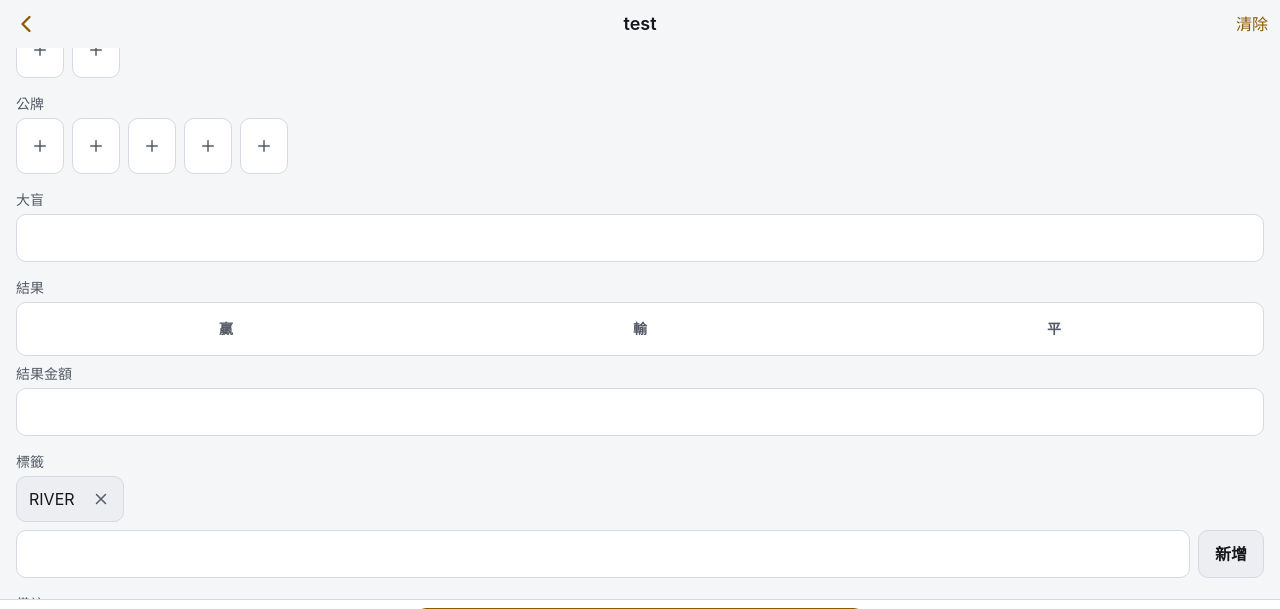
Test: 5.6 標籤建議 › 聚焦時列出所有手牌的標籤（依最近使用、去重不分大小寫、排除本手已加），點選加入
(page scrolled)
Click the field named "新增標籤" at (603, 554), box [16,530,1190,578]
(page scrolled)
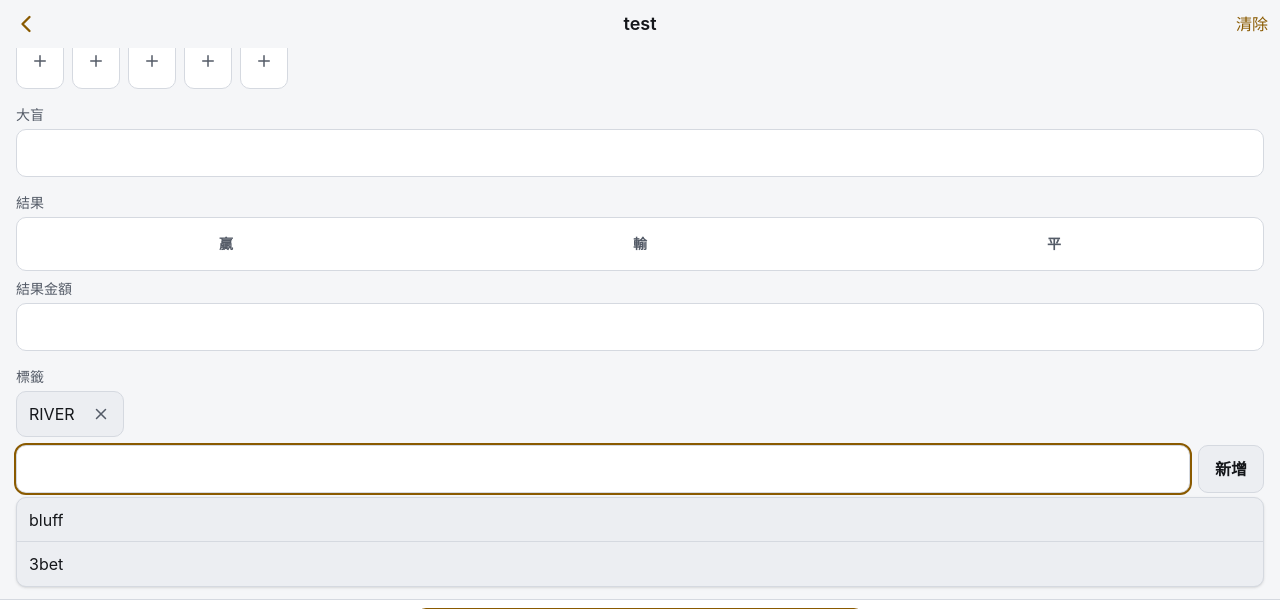
Expected: the buttons read "bluff", "3bet", in this order, [17,498,1263,542]; [17,542,1263,586]
Type "3" into the field named "新增標籤" at (603, 469), box [16,445,1190,493]
(page scrolled)
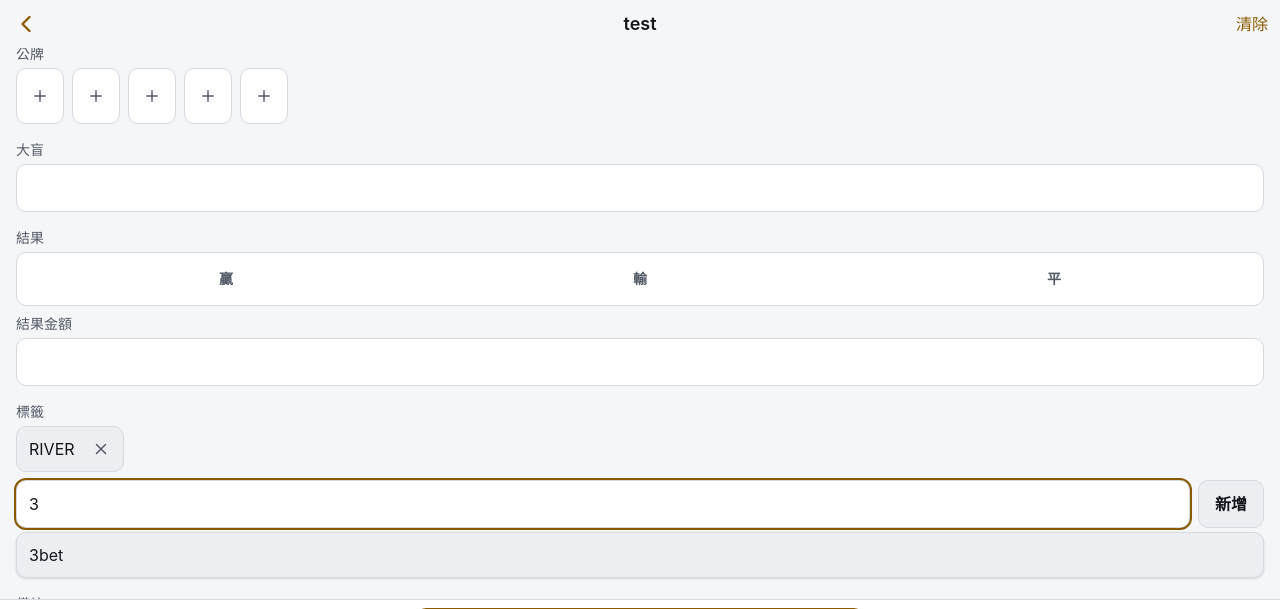
Expected: the buttons read "3bet", in this order
Click the button "3bet" at (46, 555), box [17,533,1263,577]
(page scrolled)
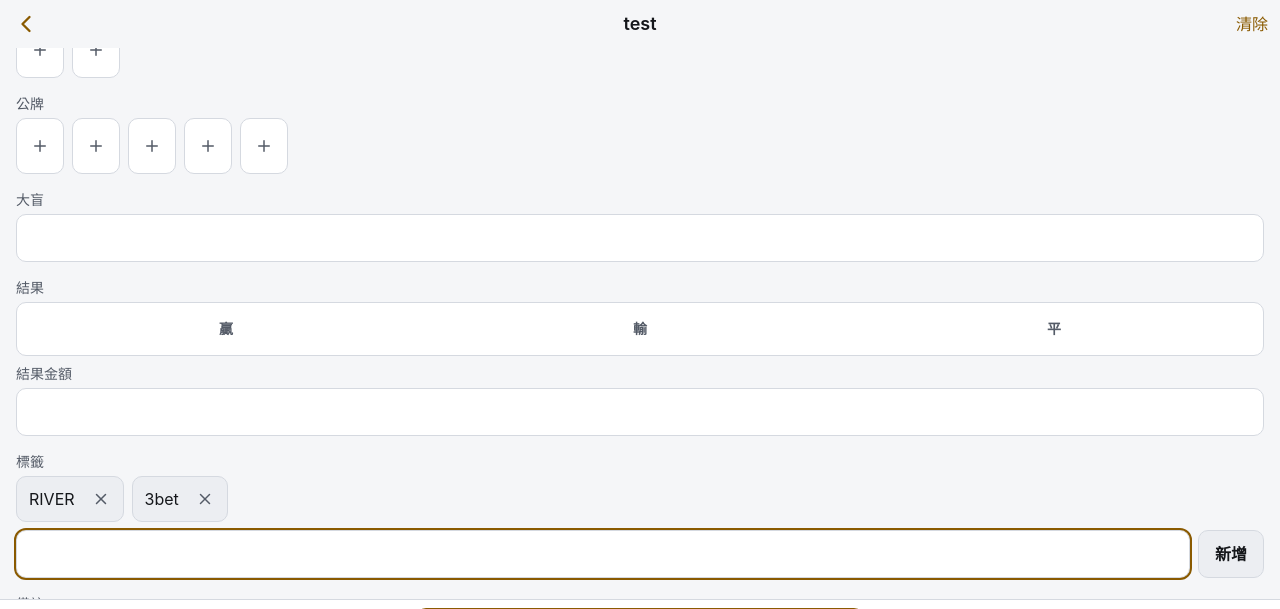
Expected: the elements with test id "tag-chip" read "RIVER", "3bet", in this order, [16,476,124,522]; [132,476,228,522]
Expected: the element with test id "tag-suggestions" is gone
Note: chip 的刪除鈕
Click the button named "刪除標籤 RIVER" at (100, 499), box [78,477,122,521]
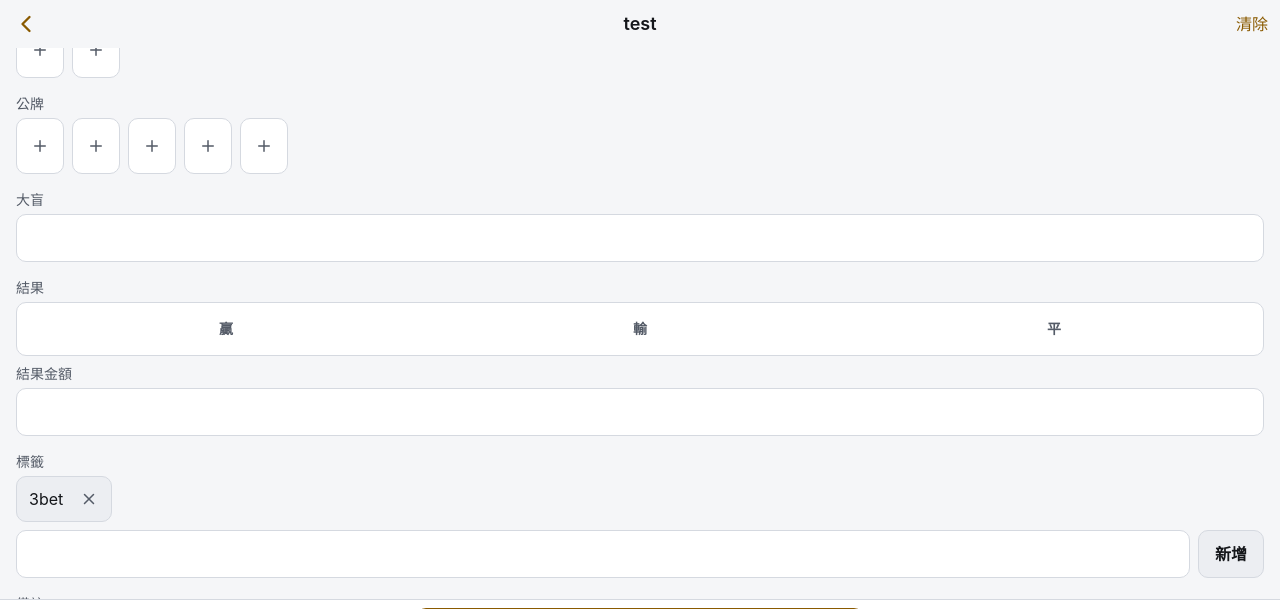
Expected: the elements with test id "tag-chip" read "3bet", in this order, [16,476,112,522]
